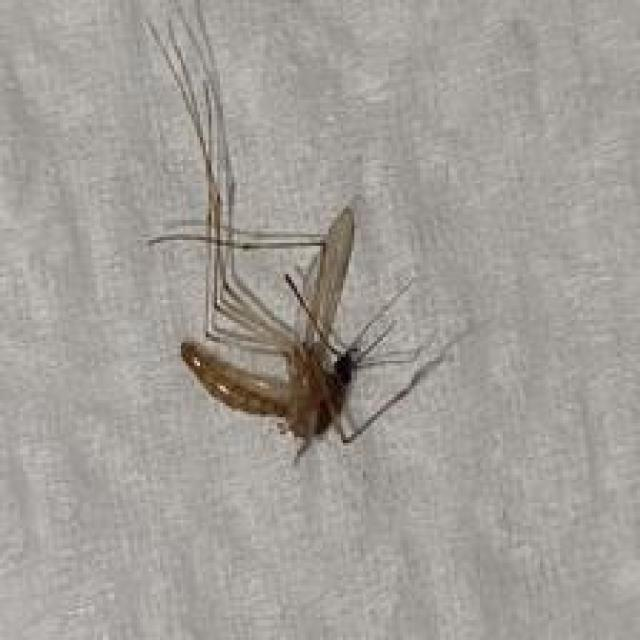Culex: (139, 0, 464, 463)
